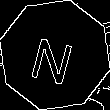N_N: (29, 26, 81, 84)
